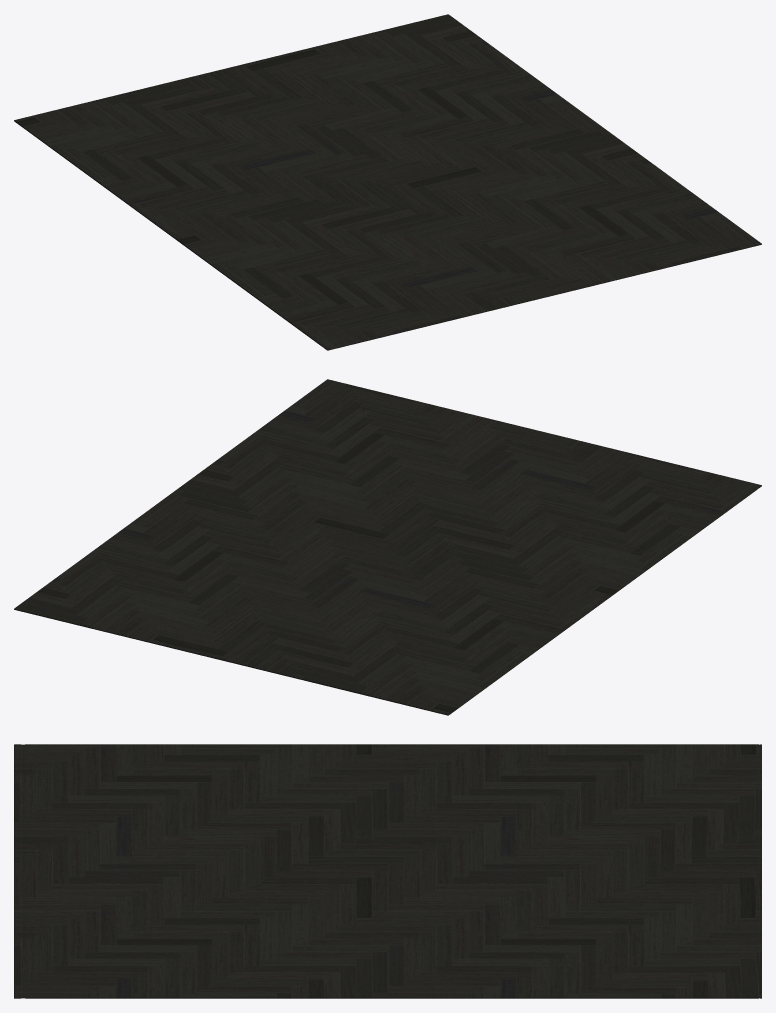
File: Project Name.gltf
3 views of the same model, one above another, from view 1: azimuth 30°, elevation 25°; view 2: azimuth 150°, elevation 25°; view 3: azimuth 270°, elevation 25° (orthographic). The views are drawn at different scales.
Parts seen in each view (by area): view 1: 51072_StrellaRug_Grey; view 2: 51072_StrellaRug_Grey; view 3: 51072_StrellaRug_Grey.
Boxes of the visible parts, bbox=[...] form: 51072_StrellaRug_Grey: bbox=[14, 14, 761, 350]; 51072_StrellaRug_Grey: bbox=[14, 379, 761, 715]; 51072_StrellaRug_Grey: bbox=[14, 744, 761, 998].
Size of the model in its own units: 2.44 by 0.00716 by 3.05.
1 material, 1 textured.
